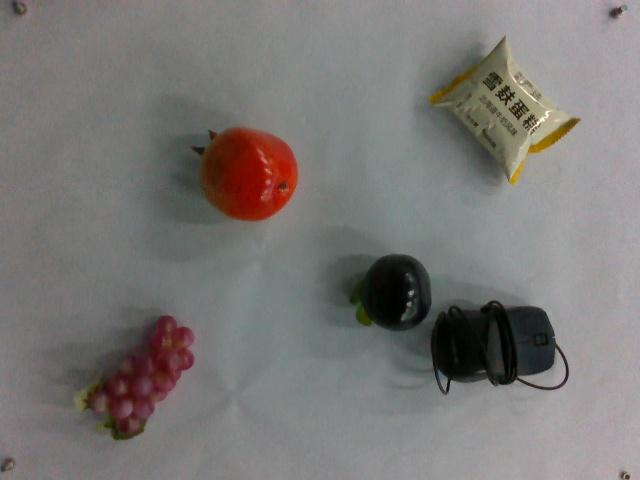dessert: (436, 36, 575, 179)
grape: (77, 309, 200, 441)
mangosteen: (345, 252, 432, 335)
mouse: (431, 300, 578, 397)
pomegranate: (190, 125, 301, 224)
